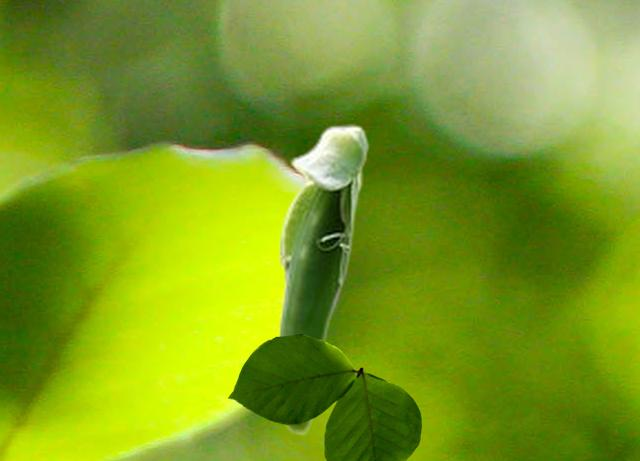pea: (276, 124, 369, 435)
